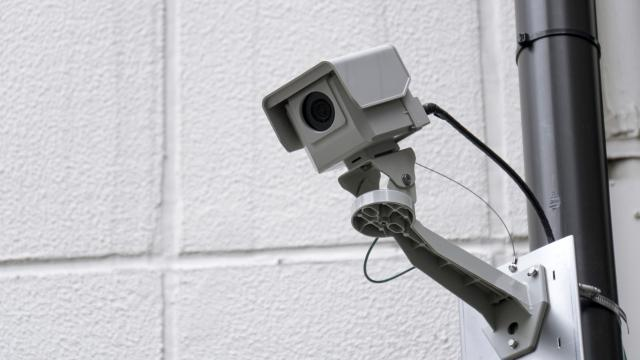tutu: (258, 29, 446, 191)
